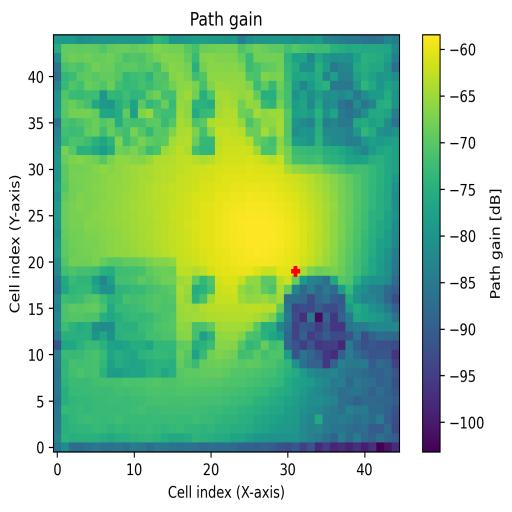Concrete: (284, 52, 377, 164)
Glass: (115, 52, 175, 156)
Metal: (284, 268, 354, 370)
Wood: (99, 256, 176, 376)
